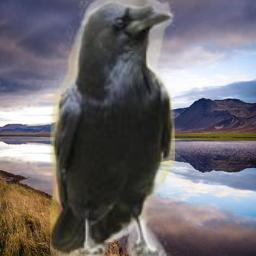Crow: (50, 0, 175, 256)
